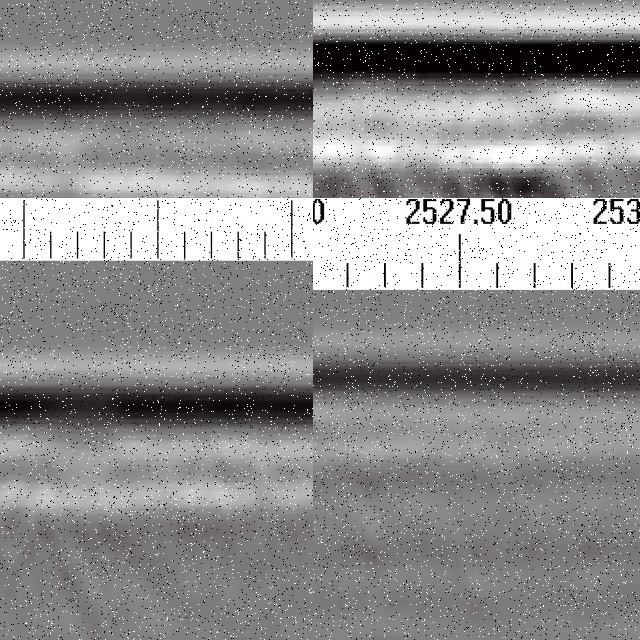loose: (348, 141, 640, 199)
